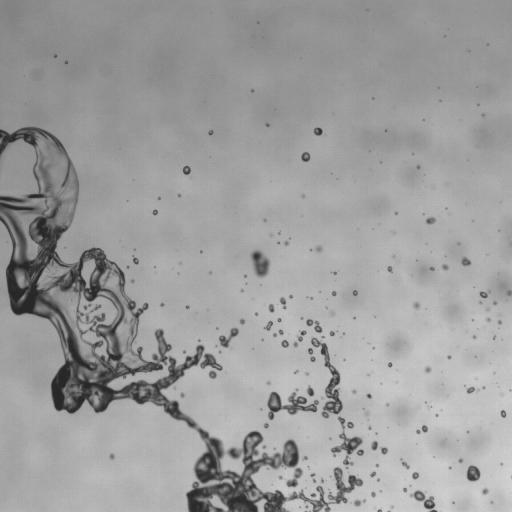droplet: (331, 416, 363, 467), (250, 249, 270, 277), (466, 465, 480, 481), (466, 386, 478, 393), (301, 152, 310, 161), (461, 257, 471, 265), (306, 386, 314, 396), (314, 127, 322, 135), (426, 217, 435, 224), (265, 321, 272, 330), (183, 166, 190, 174), (479, 291, 488, 297), (315, 245, 322, 252), (281, 340, 288, 347), (268, 304, 274, 312), (413, 302, 419, 309), (500, 410, 506, 417), (412, 472, 418, 479), (442, 264, 448, 270), (425, 366, 431, 372), (482, 488, 488, 494), (133, 256, 138, 263), (387, 266, 392, 272), (278, 330, 283, 335), (370, 472, 375, 477), (353, 290, 357, 295), (507, 290, 511, 295), (240, 319, 244, 324), (367, 393, 371, 398), (264, 423, 268, 428), (110, 454, 114, 459), (371, 492, 375, 497), (153, 210, 157, 214), (284, 241, 288, 245), (332, 291, 336, 295), (486, 317, 490, 321), (277, 318, 281, 322), (330, 331, 334, 335), (180, 393, 184, 397), (278, 475, 282, 479), (209, 130, 212, 134), (493, 301, 496, 305), (430, 267, 433, 270), (289, 295, 292, 298), (186, 305, 189, 308), (486, 308, 489, 311), (448, 355, 451, 358), (388, 363, 391, 366), (294, 370, 297, 373), (352, 390, 355, 393), (365, 412, 368, 415), (262, 445, 265, 448), (459, 459, 462, 462), (320, 479, 323, 482), (403, 488, 406, 491), (417, 165, 419, 168), (178, 194, 180, 197), (332, 272, 335, 274), (161, 303, 163, 306), (255, 312, 257, 315), (498, 321, 501, 323), (273, 334, 276, 336), (473, 335, 475, 338), (183, 350, 185, 353), (306, 372, 308, 375), (267, 381, 269, 384), (435, 414, 438, 416), (368, 426, 370, 429), (375, 464, 378, 466), (266, 124, 268, 126), (310, 297, 312, 299), (428, 406, 430, 408)
ligament: (0, 125, 362, 511), (311, 337, 342, 418), (267, 389, 318, 420), (409, 490, 437, 511), (219, 328, 238, 347), (293, 330, 306, 347), (306, 319, 322, 332), (371, 441, 387, 454), (308, 348, 315, 361), (416, 425, 427, 433), (352, 500, 365, 506), (280, 297, 286, 308), (401, 460, 409, 468), (310, 473, 315, 482), (376, 509, 382, 511)
